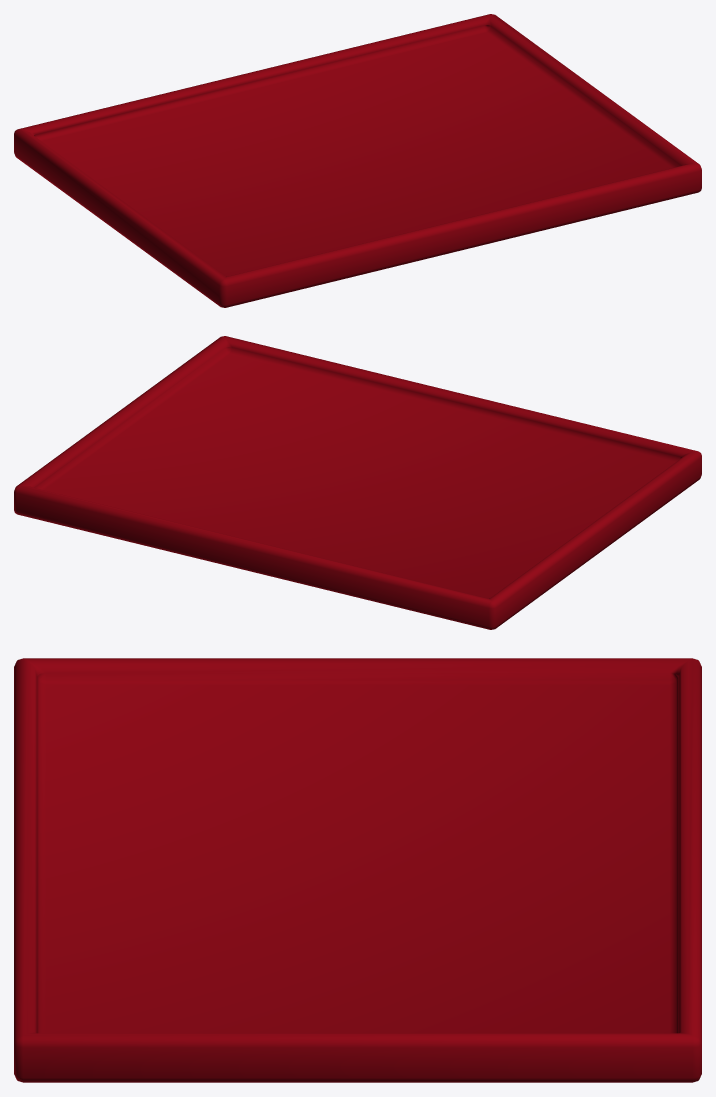
Rendered from Tray.fbx.
3 views of the same model, one above another, from view 1: azimuth 30°, elevation 25°; view 2: azimuth 150°, elevation 25°; view 3: azimuth 270°, elevation 25° (orthographic). The views are drawn at different scales.
Visible parts, largest first — view 1: Tray; view 2: Tray; view 3: Tray.
Part boxes in pixels (x1,y1,x2,y2): Tray: [14, 14, 701, 307]; Tray: [14, 336, 701, 629]; Tray: [14, 658, 701, 1082].
Bounding box in the file's own units: 113 × 6.39 × 85.27.
